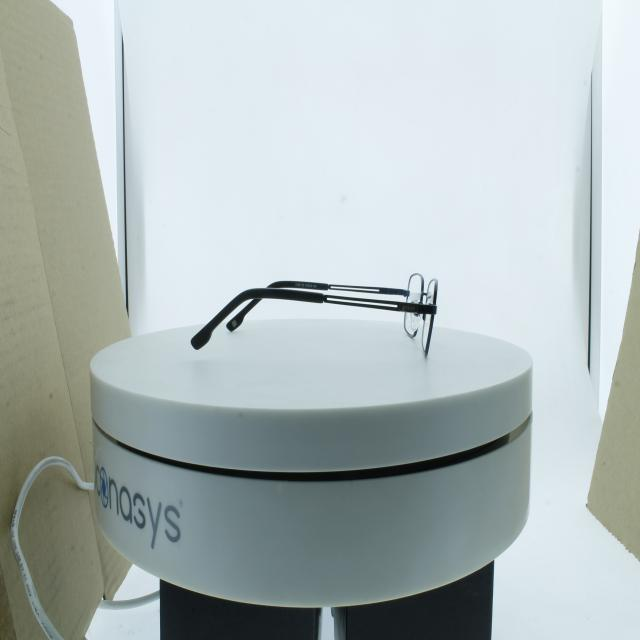Specs: (172, 231, 460, 380)
